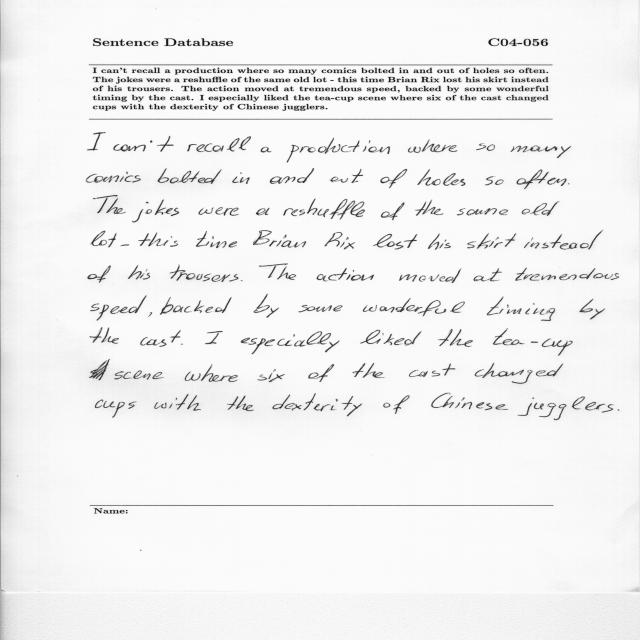word: (287, 138, 390, 163), (241, 332, 340, 355), (493, 328, 573, 356), (518, 397, 614, 420), (273, 393, 363, 416), (475, 363, 563, 384), (363, 298, 465, 316), (283, 199, 365, 220), (487, 296, 555, 321), (90, 360, 164, 381), (524, 231, 602, 250), (91, 295, 147, 321), (515, 268, 619, 281), (431, 393, 508, 410), (160, 297, 232, 315), (170, 264, 239, 282), (132, 200, 179, 223), (187, 136, 251, 152), (517, 169, 567, 189), (113, 136, 174, 152), (158, 169, 222, 184), (253, 230, 306, 248), (185, 364, 238, 382), (399, 268, 461, 283), (360, 330, 422, 345), (418, 169, 466, 186), (154, 394, 201, 411), (467, 233, 516, 249), (95, 400, 137, 418), (317, 268, 374, 281), (511, 146, 571, 158), (196, 231, 237, 248), (140, 330, 181, 347), (408, 139, 457, 153), (373, 234, 418, 249), (270, 169, 314, 184), (438, 329, 473, 347), (93, 195, 126, 214), (86, 172, 141, 183), (254, 294, 279, 318), (409, 364, 455, 377), (259, 264, 296, 280), (138, 233, 178, 247), (522, 201, 559, 216), (324, 232, 355, 249), (579, 299, 605, 319), (381, 169, 408, 188), (383, 395, 410, 414), (353, 363, 385, 378), (308, 364, 334, 382), (90, 328, 119, 344), (330, 169, 363, 183), (91, 231, 117, 248), (381, 203, 405, 221), (416, 200, 443, 216), (227, 396, 254, 411), (428, 233, 451, 250), (88, 266, 111, 283), (473, 268, 502, 281), (198, 207, 239, 216), (257, 369, 285, 382), (457, 209, 508, 216), (88, 133, 106, 151), (128, 265, 150, 279), (299, 305, 343, 312), (205, 331, 223, 344), (232, 172, 250, 184), (485, 177, 504, 186), (476, 143, 495, 151), (256, 208, 269, 215), (261, 147, 272, 153), (149, 312, 153, 317), (121, 244, 130, 246), (618, 409, 620, 411), (241, 280, 243, 281), (181, 344, 183, 345), (568, 184, 569, 185)
